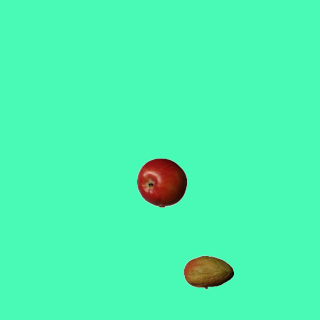Apple Braeburn: (136, 157, 186, 207)
Papaya: (183, 247, 233, 297)
